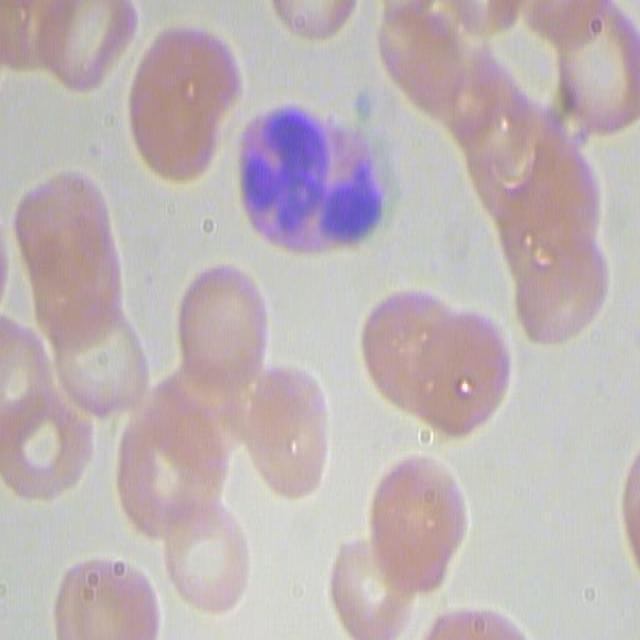RBC: (123, 20, 249, 196), (240, 353, 349, 503), (364, 448, 473, 597), (159, 491, 263, 620), (9, 170, 116, 294), (359, 285, 456, 416), (173, 259, 270, 389), (415, 307, 512, 437), (512, 223, 609, 353), (1, 379, 97, 509), (52, 307, 156, 421), (50, 543, 168, 636), (32, 1, 139, 96), (322, 528, 410, 640)
WBC: (224, 98, 391, 274)
